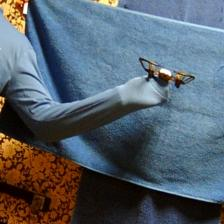drone: (138, 55, 196, 90)
